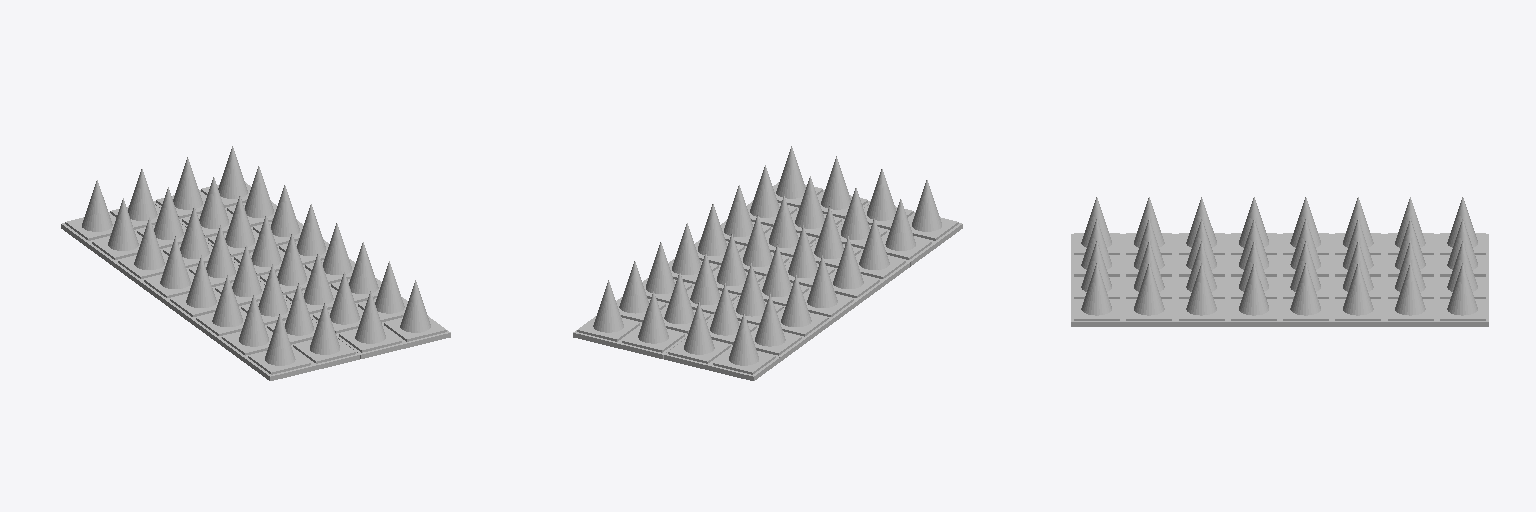
File: SpikedFloor.obj
3 views of the same model, side by side, from view 1: azimuth 30°, elevation 25°; view 2: azimuth 150°, elevation 25°; view 3: azimuth 270°, elevation 25° (orthographic).
Visible parts, largest first — view 1: Cube.029_Cube.051, Cube.006, Cube.008, Cube.002, Cone.054, Cone.002, Cone.009, Cone.008, Cone, Cone.006, Cone.027, Cone.057 (+28 smaller); view 2: Cube.058_Cube.089, Cube.064_Cube.095, Cube.066_Cube.097, Cube.060_Cube.091, Cone.059, Cone.054, Cone.063, Cone.006, Cone.042, Cone, Cone.021, Cone.036 (+28 smaller); view 3: Cube.011, Cube.048_Cube.079, Cube.063_Cube.094, Cube.026_Cube.058, Cube.030_Cube.061, Cube.066_Cube.097, Cube.008, Cube.045_Cube.076, Cone.011, Cone.047, Cone.008, Cone.044 (+28 smaller).
Part boxes in pixels (left/top/right/bottom): Cube.029_Cube.051: left=244, top=349, right=314, bottom=380; Cube.006: left=336, top=327, right=405, bottom=358; Cube.008: left=382, top=316, right=450, bottom=347; Cube.002: left=291, top=338, right=359, bottom=369; Cone.054: left=108, top=198, right=138, bottom=250; Cone.002: left=310, top=303, right=339, bottom=354; Cone.009: left=330, top=271, right=359, bottom=324; Cone.008: left=400, top=280, right=430, bottom=332; Cone: left=265, top=314, right=295, bottom=365; Cone.006: left=355, top=291, right=385, bottom=343; Cone.027: left=277, top=234, right=306, bottom=285; Cone.057: left=82, top=180, right=112, bottom=231; Cube.058_Cube.089: left=709, top=349, right=779, bottom=380; Cube.064_Cube.095: left=618, top=327, right=687, bottom=358; Cube.066_Cube.097: left=573, top=316, right=641, bottom=347; Cube.060_Cube.091: left=664, top=338, right=732, bottom=369; Cone.059: left=684, top=302, right=714, bottom=354; Cone.054: left=755, top=294, right=785, bottom=346; Cone.063: left=638, top=291, right=668, bottom=343; Cone.006: left=821, top=156, right=850, bottom=209; Cone.042: left=717, top=234, right=746, bottom=285; Cone: left=912, top=180, right=941, bottom=231; Cone.021: left=833, top=236, right=863, bottom=288; Cone.036: left=807, top=255, right=837, bottom=307; Cube.011: left=1123, top=299, right=1175, bottom=326; Cube.048_Cube.079: left=1332, top=299, right=1384, bottom=326; Cube.063_Cube.094: left=1384, top=299, right=1436, bottom=326; Cube.026_Cube.058: left=1176, top=299, right=1227, bottom=326; Cube.030_Cube.061: left=1228, top=299, right=1279, bottom=326; Cube.066_Cube.097: left=1437, top=299, right=1488, bottom=326; Cube.008: left=1071, top=299, right=1122, bottom=326; Cube.045_Cube.076: left=1280, top=299, right=1331, bottom=326; Cone.011: left=1134, top=263, right=1164, bottom=315; Cone.047: left=1343, top=263, right=1373, bottom=315; Cone.008: left=1081, top=263, right=1111, bottom=315; Cone.044: left=1290, top=263, right=1320, bottom=315.
Size of the model in its own units: 7.99 by 2.28 by 16.01.